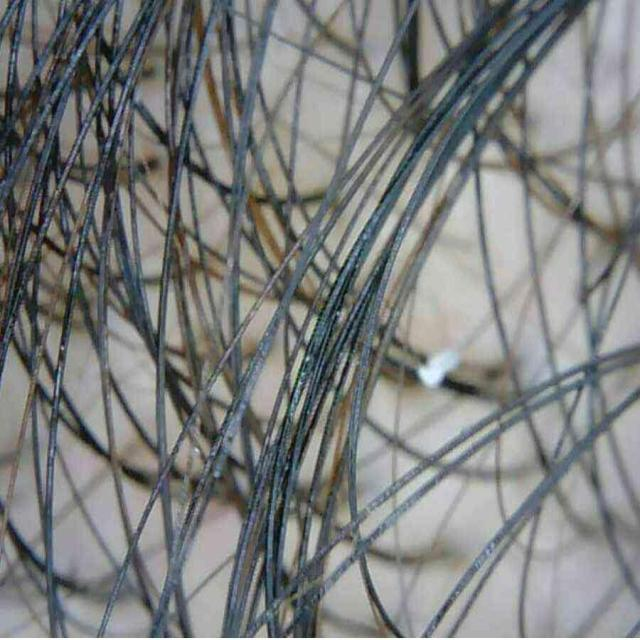d: (412, 348, 464, 393)
o: (0, 0, 640, 636)
